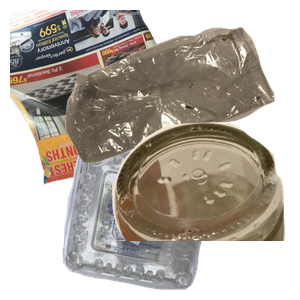glass: (89, 120, 300, 300)
paper: (10, 10, 230, 188)
plastic: (60, 141, 263, 300)
trash: (63, 24, 300, 179)
